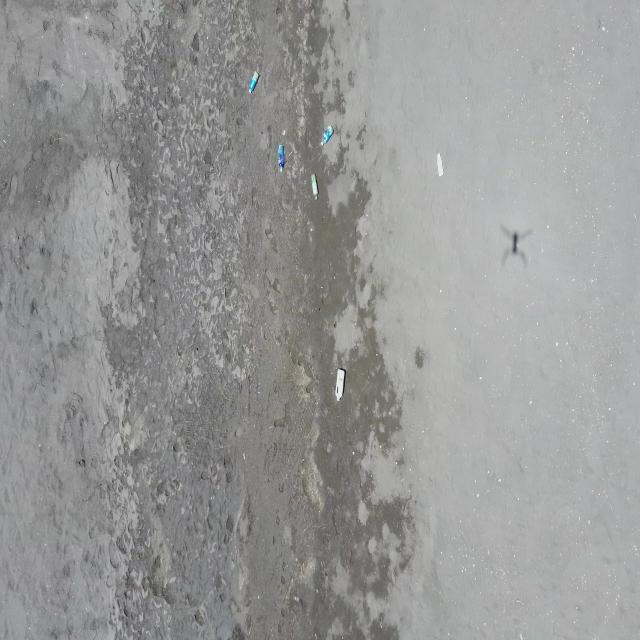plastic-bottle: (335, 367, 347, 401), (320, 125, 334, 148), (277, 142, 286, 172), (248, 70, 258, 95), (311, 172, 319, 201), (436, 152, 444, 178)
